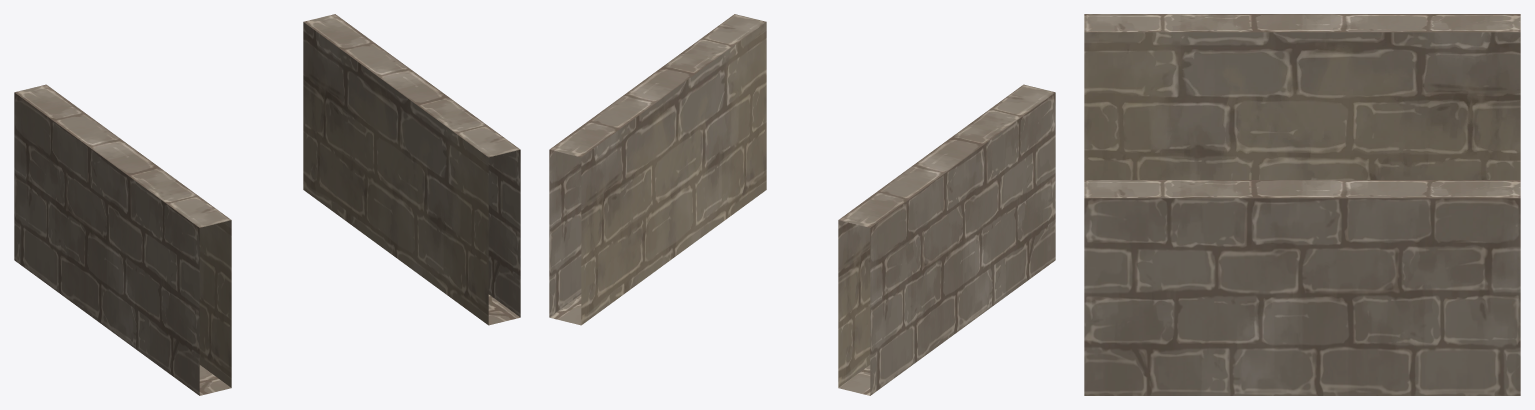
The model's file is Stairs_Exterior_Sides.gltf.
3 renders of one model, left to right at view 1: azimuth 30°, elevation 25°; view 2: azimuth 150°, elevation 25°; view 3: azimuth 270°, elevation 25°, orthographic. The views are drawn at different scales.
Parts seen in each view (by area): view 1: Stairs_Exterior_Sides; view 2: Stairs_Exterior_Sides; view 3: Stairs_Exterior_Sides.
Part boxes in pixels (x1,y1,x2,y2): Stairs_Exterior_Sides: [14, 14, 520, 395]; Stairs_Exterior_Sides: [549, 14, 1055, 395]; Stairs_Exterior_Sides: [1084, 14, 1520, 395].
Bounding box in the file's own units: 2 × 1 × 2.
1 material, 1 textured.
